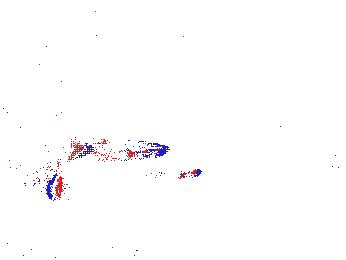red belly glassfish: (152, 166, 203, 183)
redtail glassfish: (71, 132, 171, 165)
